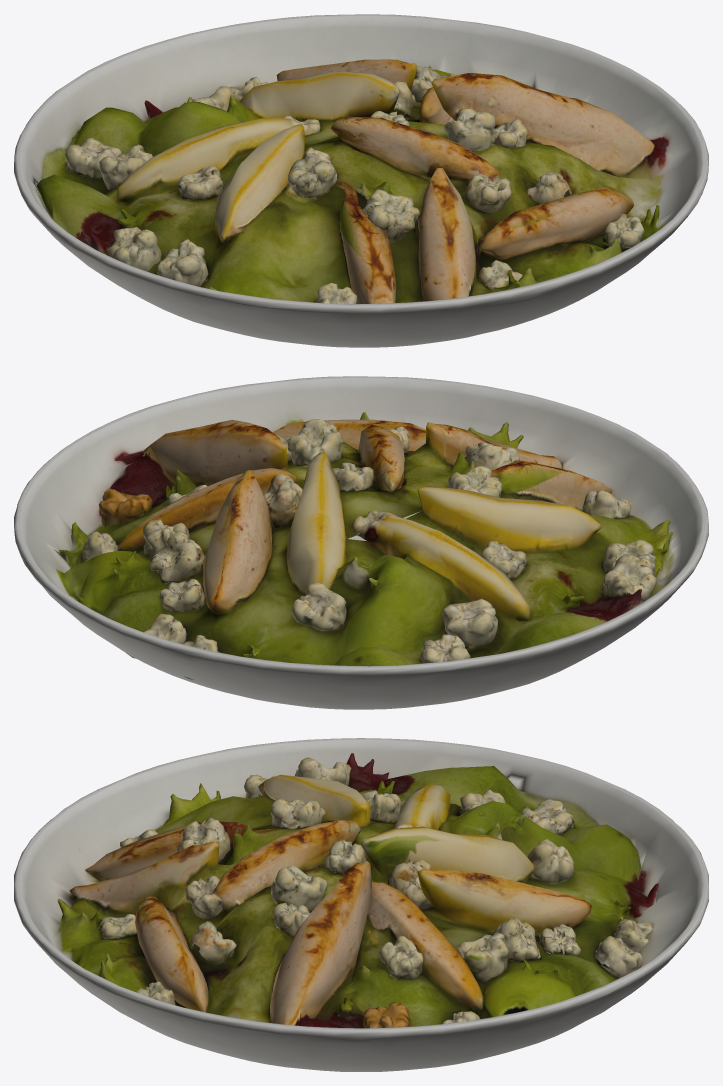
File: insalata_pera_gorgonzola.fbx
The picture shows the model from 3 angles, top to bottom: view 1: azimuth 30°, elevation 25°; view 2: azimuth 150°, elevation 25°; view 3: azimuth 270°, elevation 25°; orthographic projection.
Visible parts, largest first — view 1: meshes[0]; view 2: meshes[0]; view 3: meshes[0].
Part boxes in pixels (x1=…): meshes[0]: x1=14, y1=14, x2=708, y2=347; meshes[0]: x1=14, y1=376, x2=708, y2=709; meshes[0]: x1=14, y1=738, x2=708, y2=1071.
Bounding box in the file's own units: 99.8 × 28.71 × 99.8.
1 material, 1 textured.
